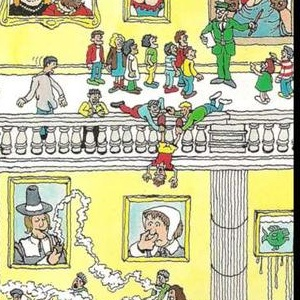Wizard Whitebeard: (157, 128, 221, 172)
